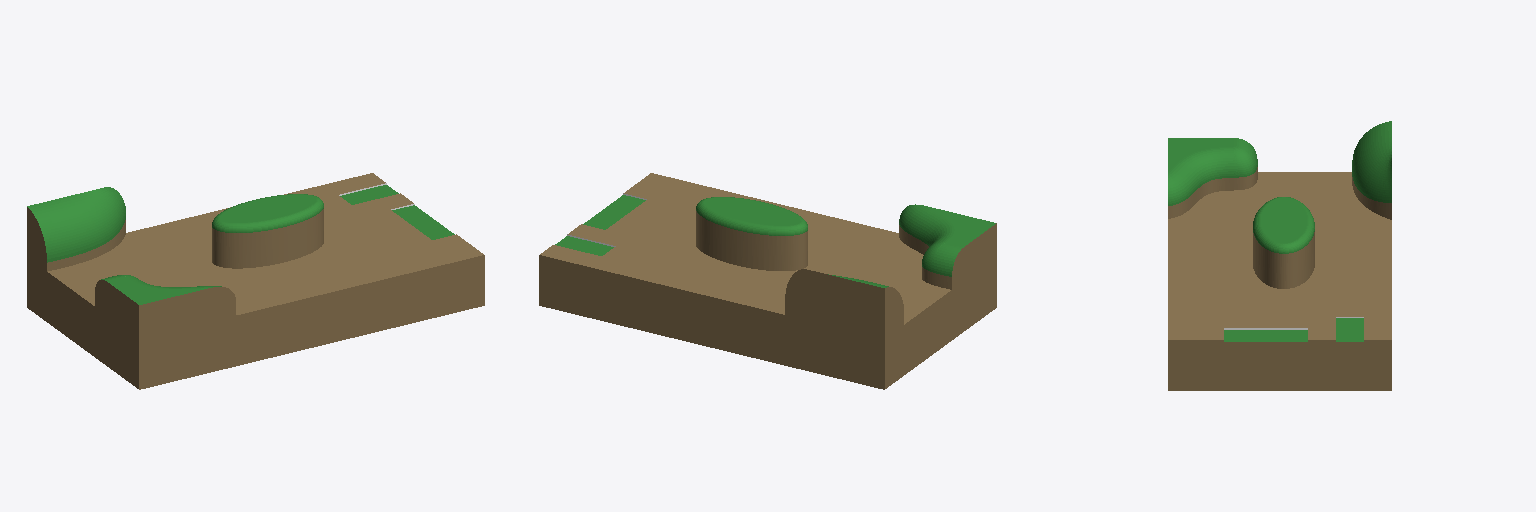
File: Map1.obj
The picture shows the model from 3 angles: view 1: azimuth 30°, elevation 25°; view 2: azimuth 150°, elevation 25°; view 3: azimuth 270°, elevation 25°; orthographic projection.
Parts seen in each view (by area): view 1: Map1&Map2_v8_Body1_0; view 2: Map1&Map2_v8_Body1_0; view 3: Map1&Map2_v8_Body1_0.
Boxes of the visible parts, <box> form: Map1&Map2_v8_Body1_0: <box>27,173,484,389</box>; Map1&Map2_v8_Body1_0: <box>539,173,996,389</box>; Map1&Map2_v8_Body1_0: <box>1168,121,1391,390</box>.
Size of the model in its own units: 128 by 36 by 72.